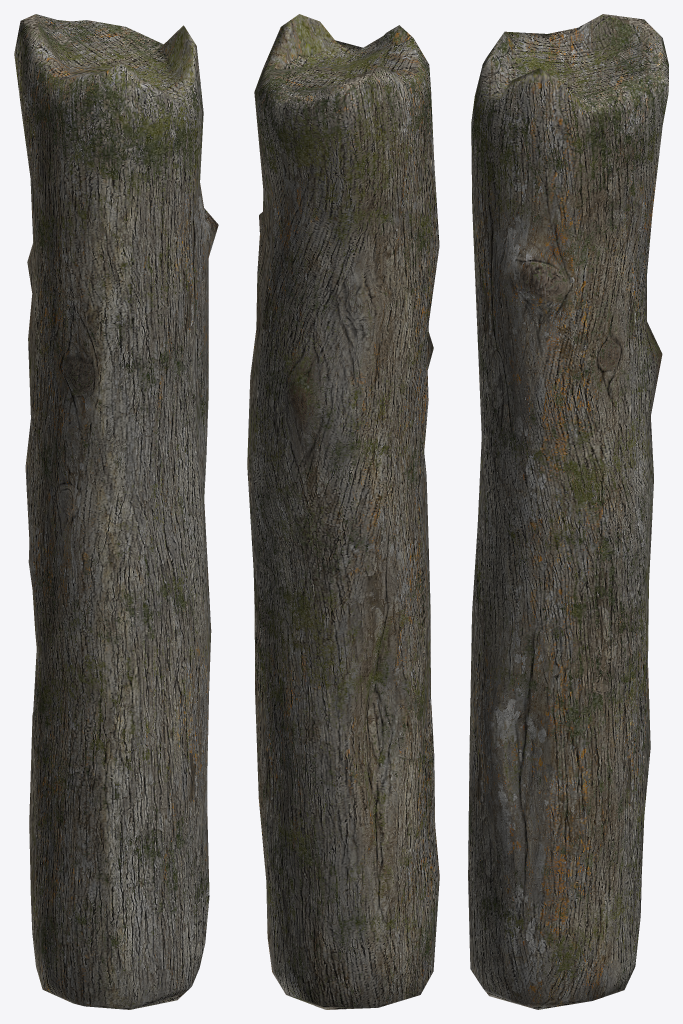
File: SM_ShortPostfbx_3.fbx
3 views of the same model, side by side, from view 1: azimuth 30°, elevation 25°; view 2: azimuth 150°, elevation 25°; view 3: azimuth 270°, elevation 25° (orthographic).
Parts seen in each view (by area): view 1: SM_ShortPostfbx_3_LOD0; view 2: SM_ShortPostfbx_3_LOD0; view 3: SM_ShortPostfbx_3_LOD0.
Part boxes in pixels (x1,y1,x2,y2): SM_ShortPostfbx_3_LOD0: [14, 14, 218, 1009]; SM_ShortPostfbx_3_LOD0: [247, 14, 439, 1009]; SM_ShortPostfbx_3_LOD0: [468, 14, 668, 1009].
Bounding box in the file's own units: 17.78 × 18.2 × 94.39.
